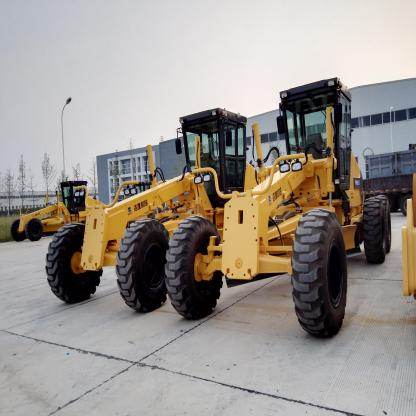bull_dozer/loader/grader: (174, 70, 408, 340)
